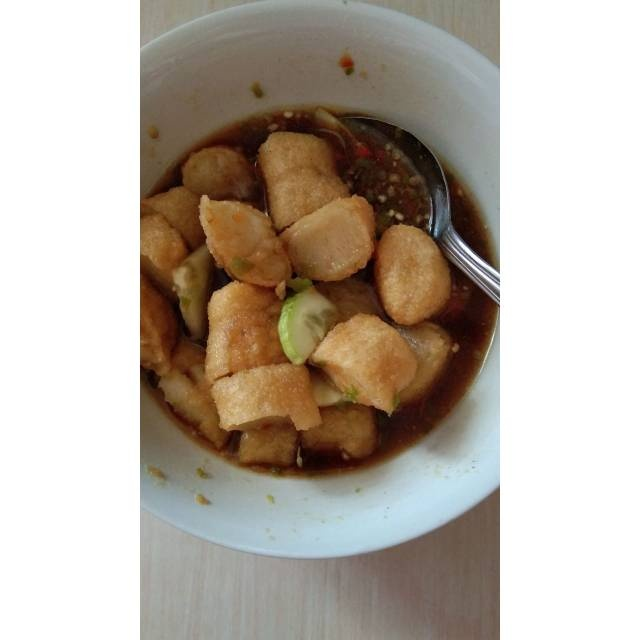pempek: (138, 140, 444, 450)
